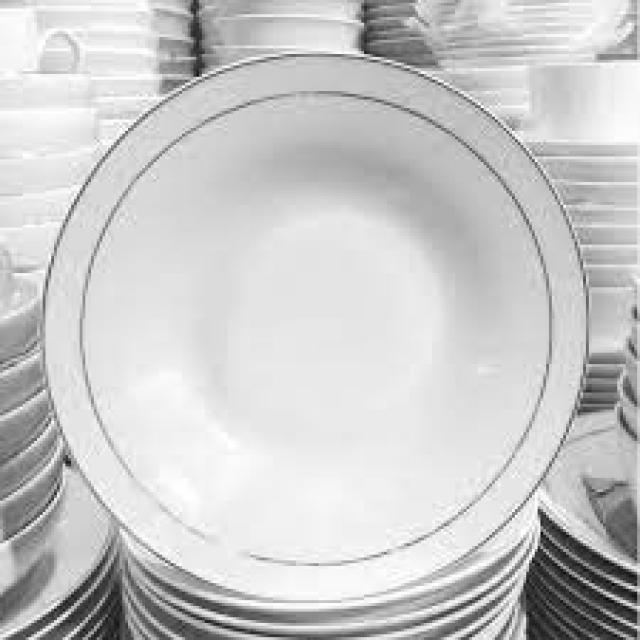dish: (33, 36, 601, 617)
